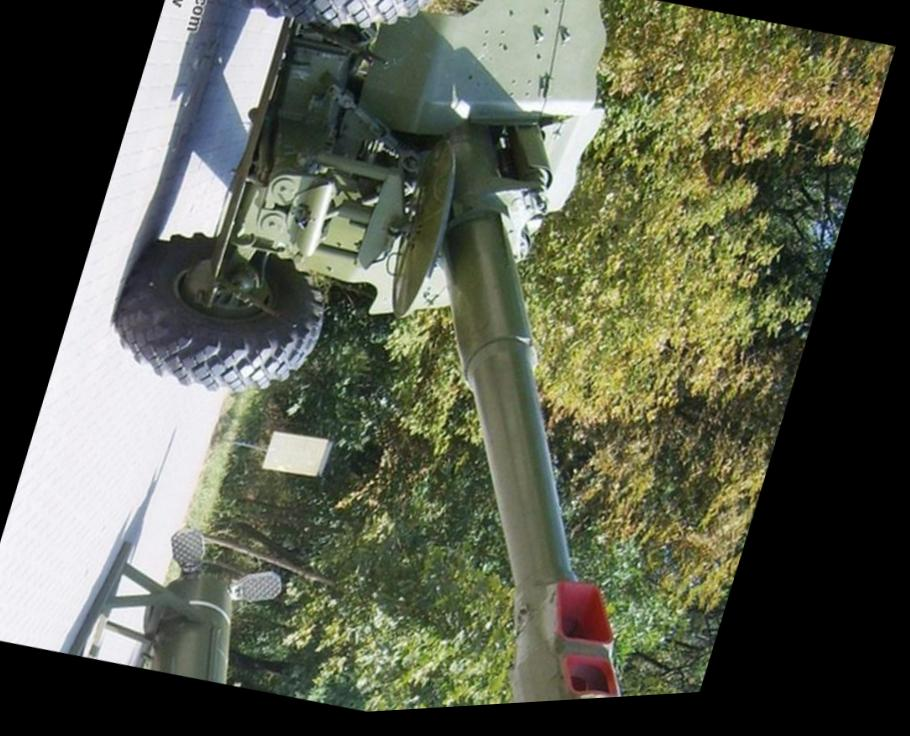sau: (0, 0, 854, 735)
